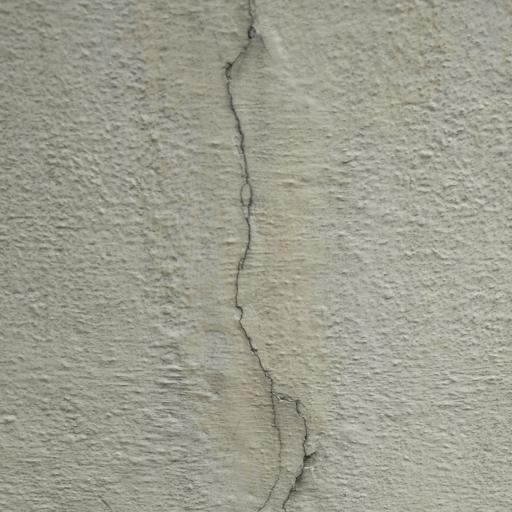minor_crack: (207, 0, 335, 512)
